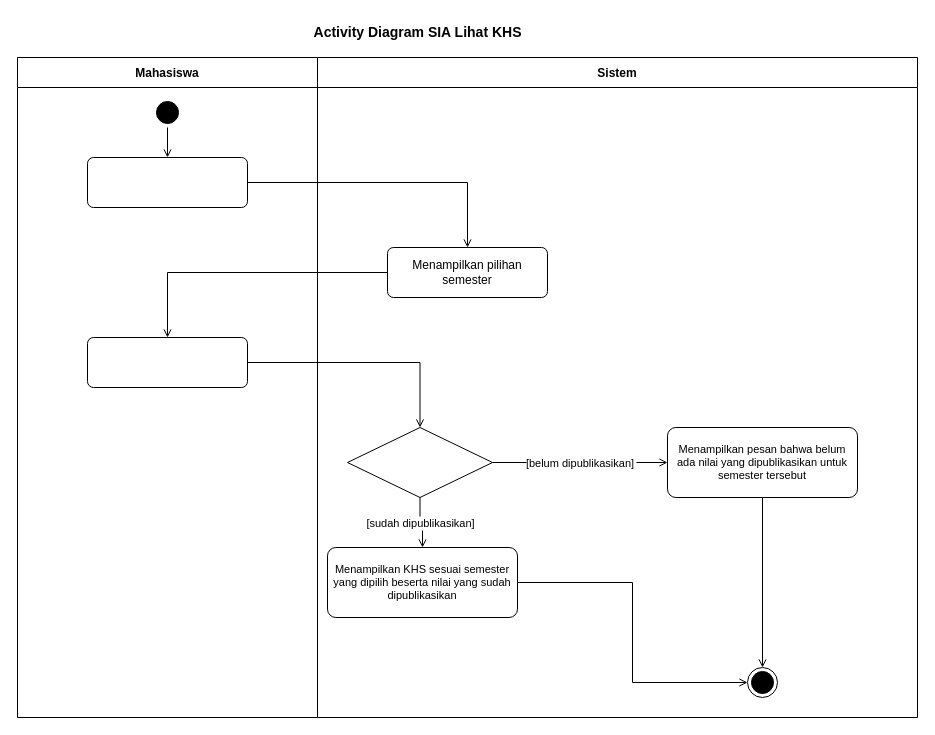
Some shapes in this 935 by 735 pixel diagram are drawn without their labels. The shapes that lost their labels are listed below. From the top down, each one's centre as x and y in pixels, then its label:
point 167,182: Membuka menu Lihat KHS
point 167,362: Memilih semester yang ingin dilihat
point 419,462: Nilai semester sudah dipublikasikan?
